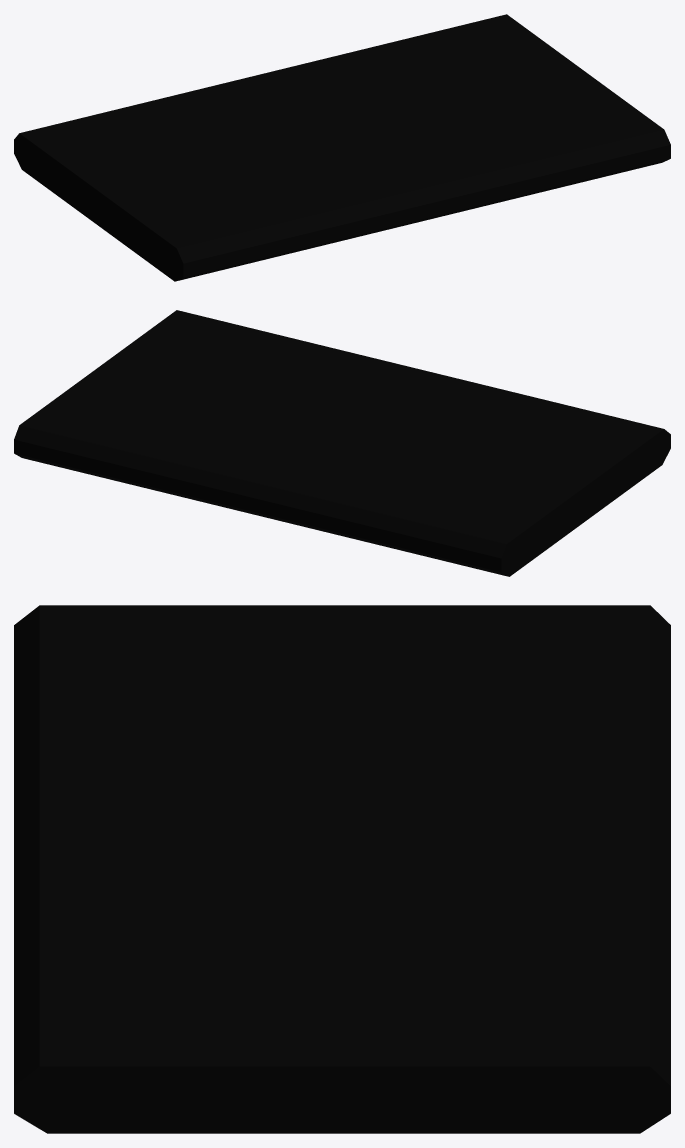
The model's file is Raft.glb.
3 renders of one model, top to bottom at view 1: azimuth 30°, elevation 25°; view 2: azimuth 150°, elevation 25°; view 3: azimuth 270°, elevation 25°, orthographic. The views are drawn at different scales.
Parts seen in each view (by area): view 1: Raft; view 2: Raft; view 3: Raft.
Boxes of the visible parts, x1=… form: Raft: x1=14, y1=14, x2=670, y2=281; Raft: x1=14, y1=310, x2=670, y2=576; Raft: x1=14, y1=605, x2=670, y2=1133.
Size of the model in its own units: 206 by 14 by 124.
Materials: 1 (1 with a texture image).
